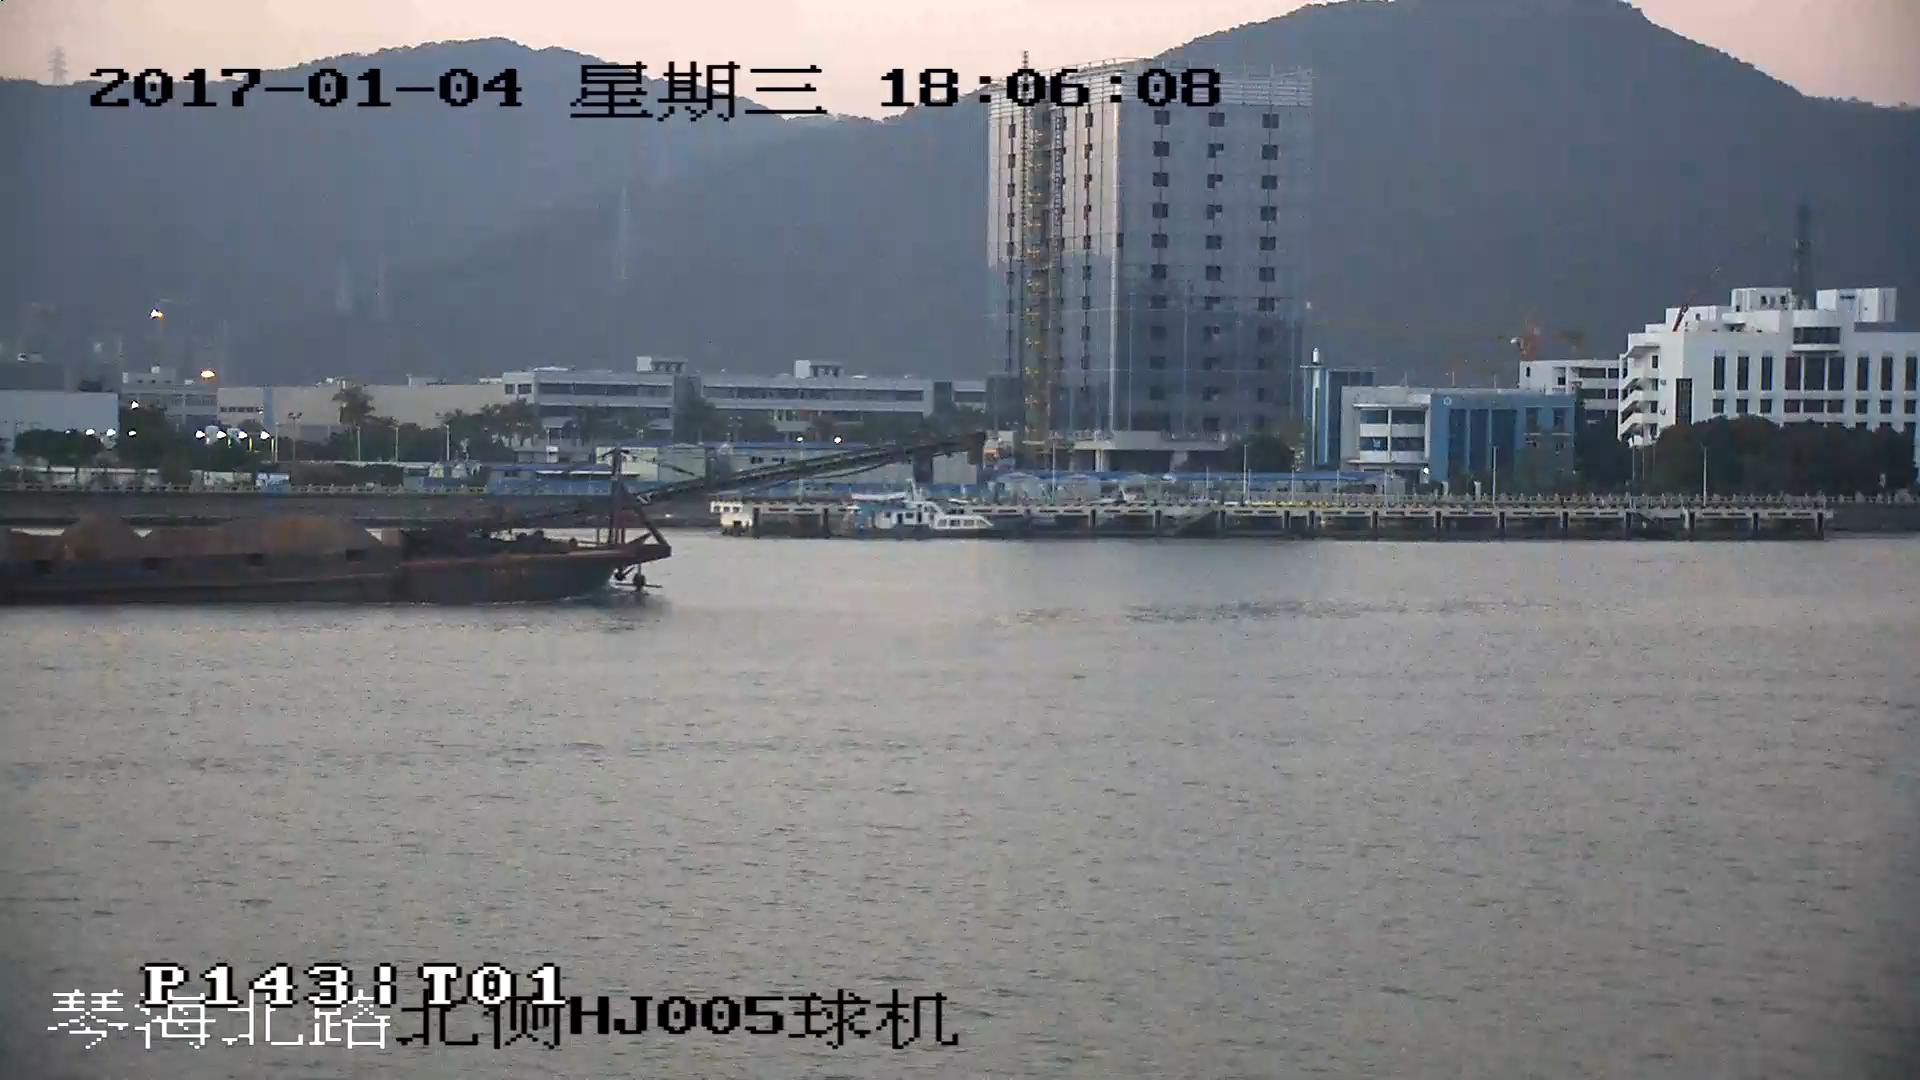ore carrier: (1, 431, 960, 608)
